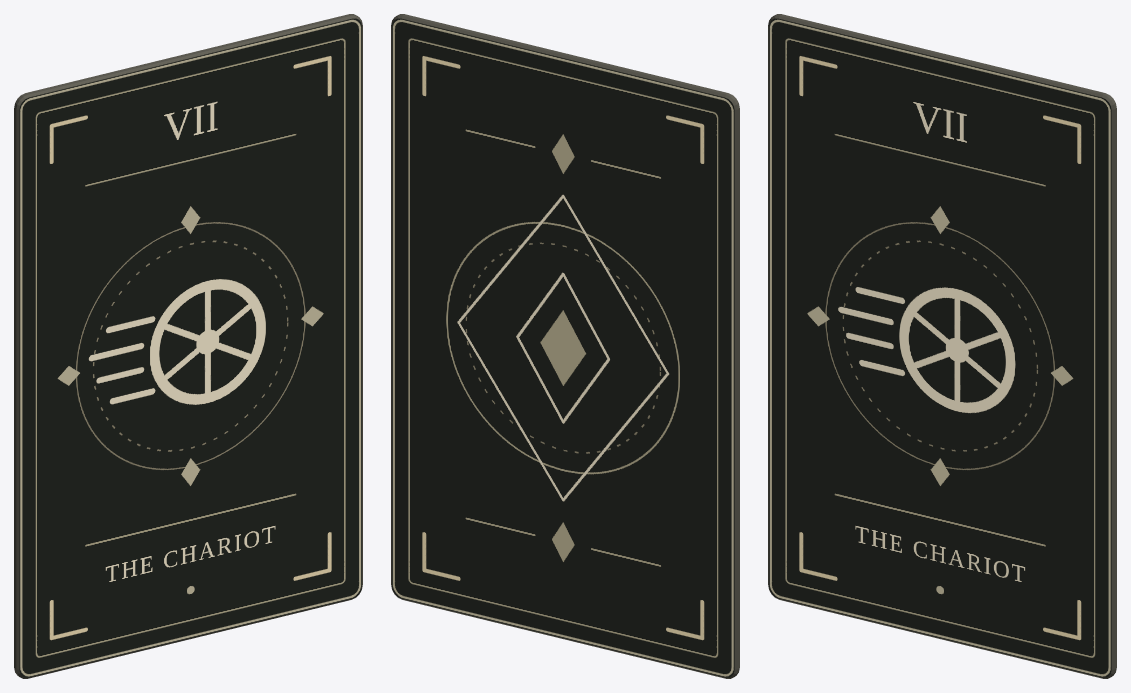
Rendered from chariot.glb.
The picture shows the model from 3 angles, left to right: view 1: azimuth 30°, elevation 25°; view 2: azimuth 150°, elevation 25°; view 3: azimuth 330°, elevation 25°; orthographic projection.
Parts seen in each view (by area): view 1: chariot; view 2: chariot; view 3: chariot.
Boxes of the visible parts, x1=… form: chariot: x1=14, y1=14, x2=362, y2=678; chariot: x1=391, y1=14, x2=739, y2=678; chariot: x1=768, y1=14, x2=1116, y2=678.
Bounding box in the file's own units: 0.18 × 0.29 × 0.004.
3 materials, 2 textured.
